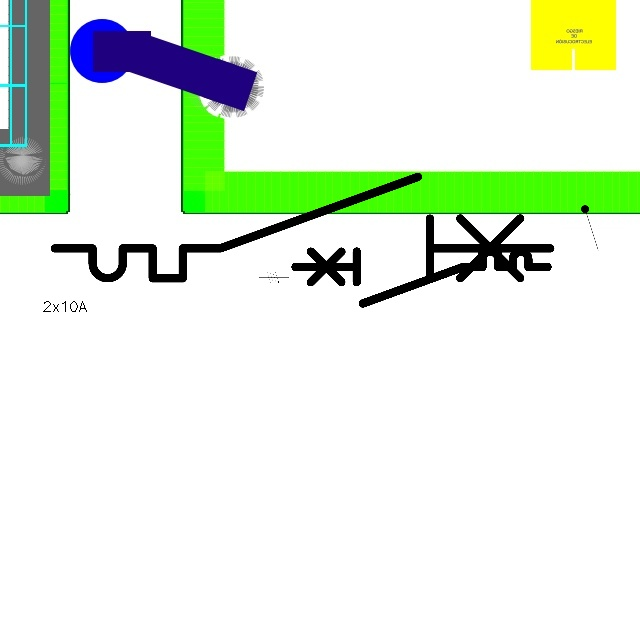interruptor_termomagnetico: (42, 164, 562, 291), (289, 245, 554, 310)
